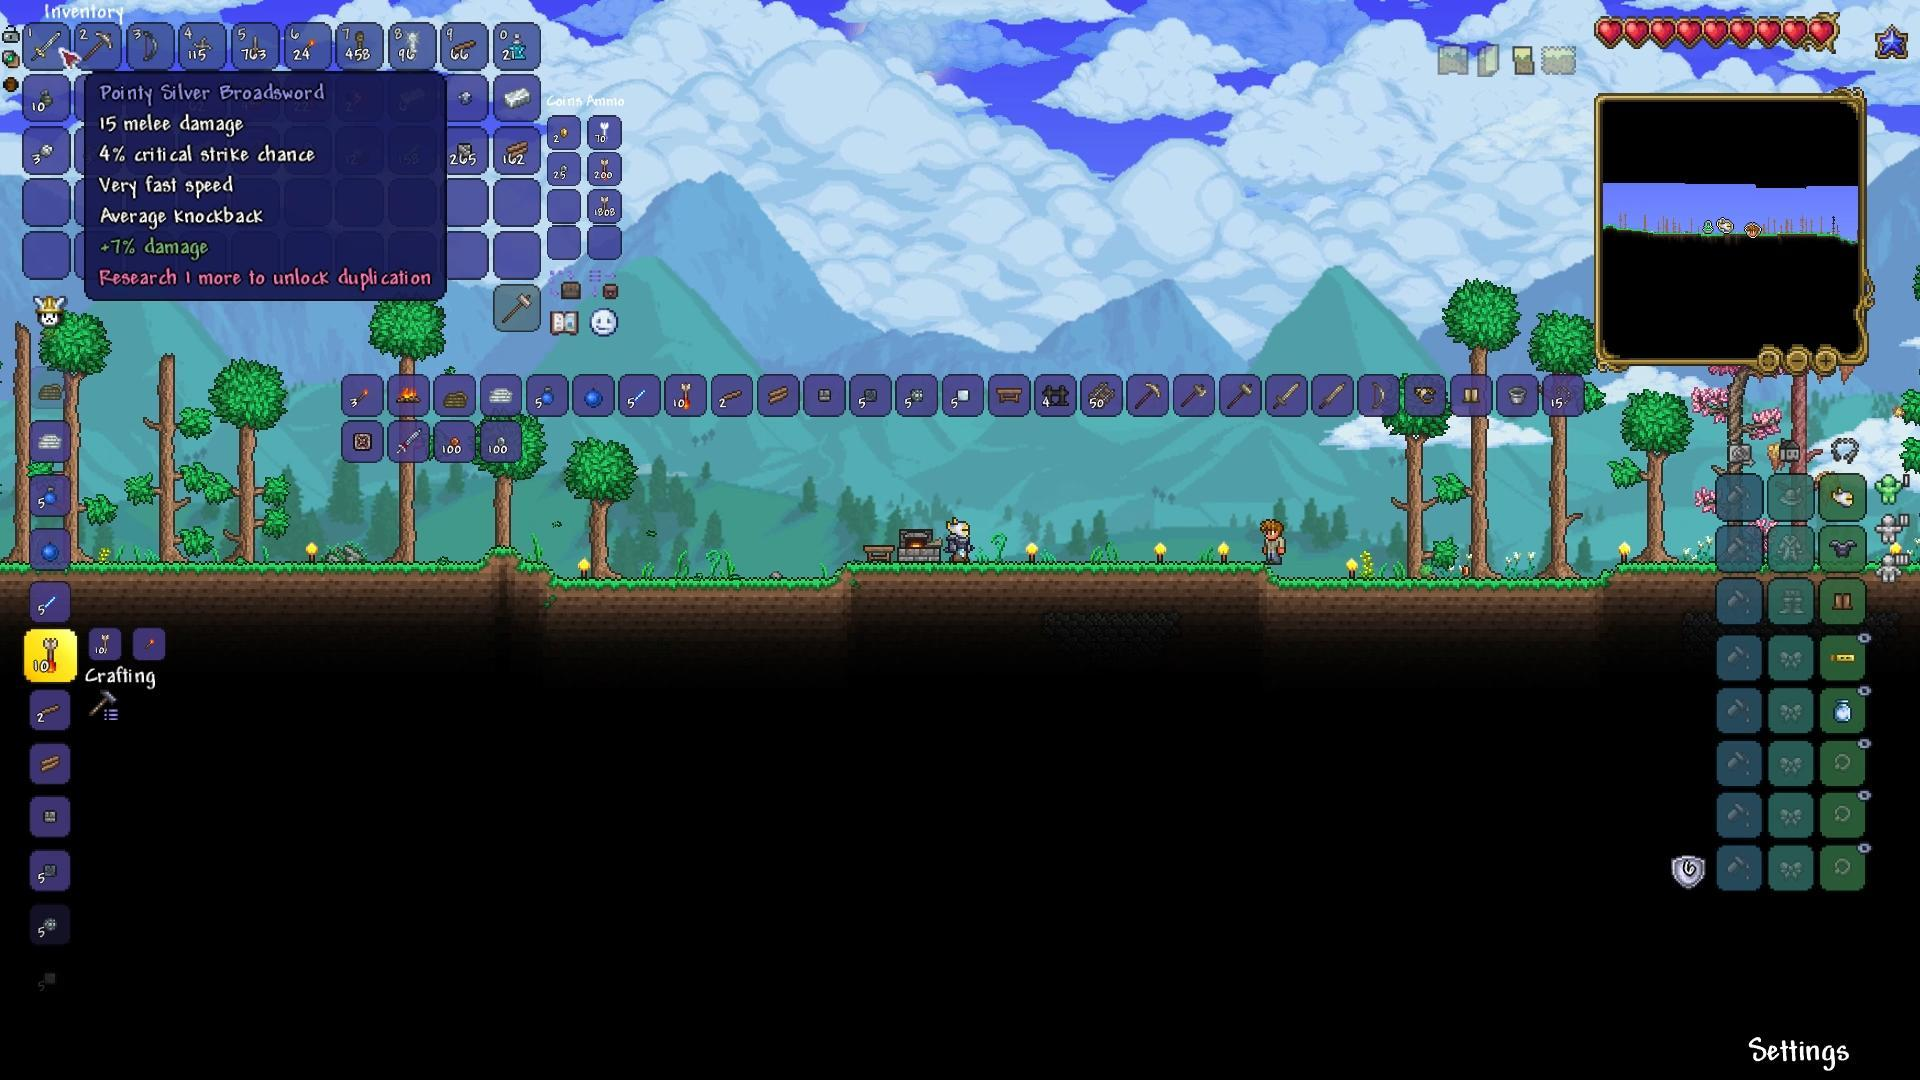dirt: (839, 560, 1275, 595), (80, 555, 485, 588), (1288, 568, 1602, 605), (555, 574, 828, 604), (485, 539, 560, 605)
